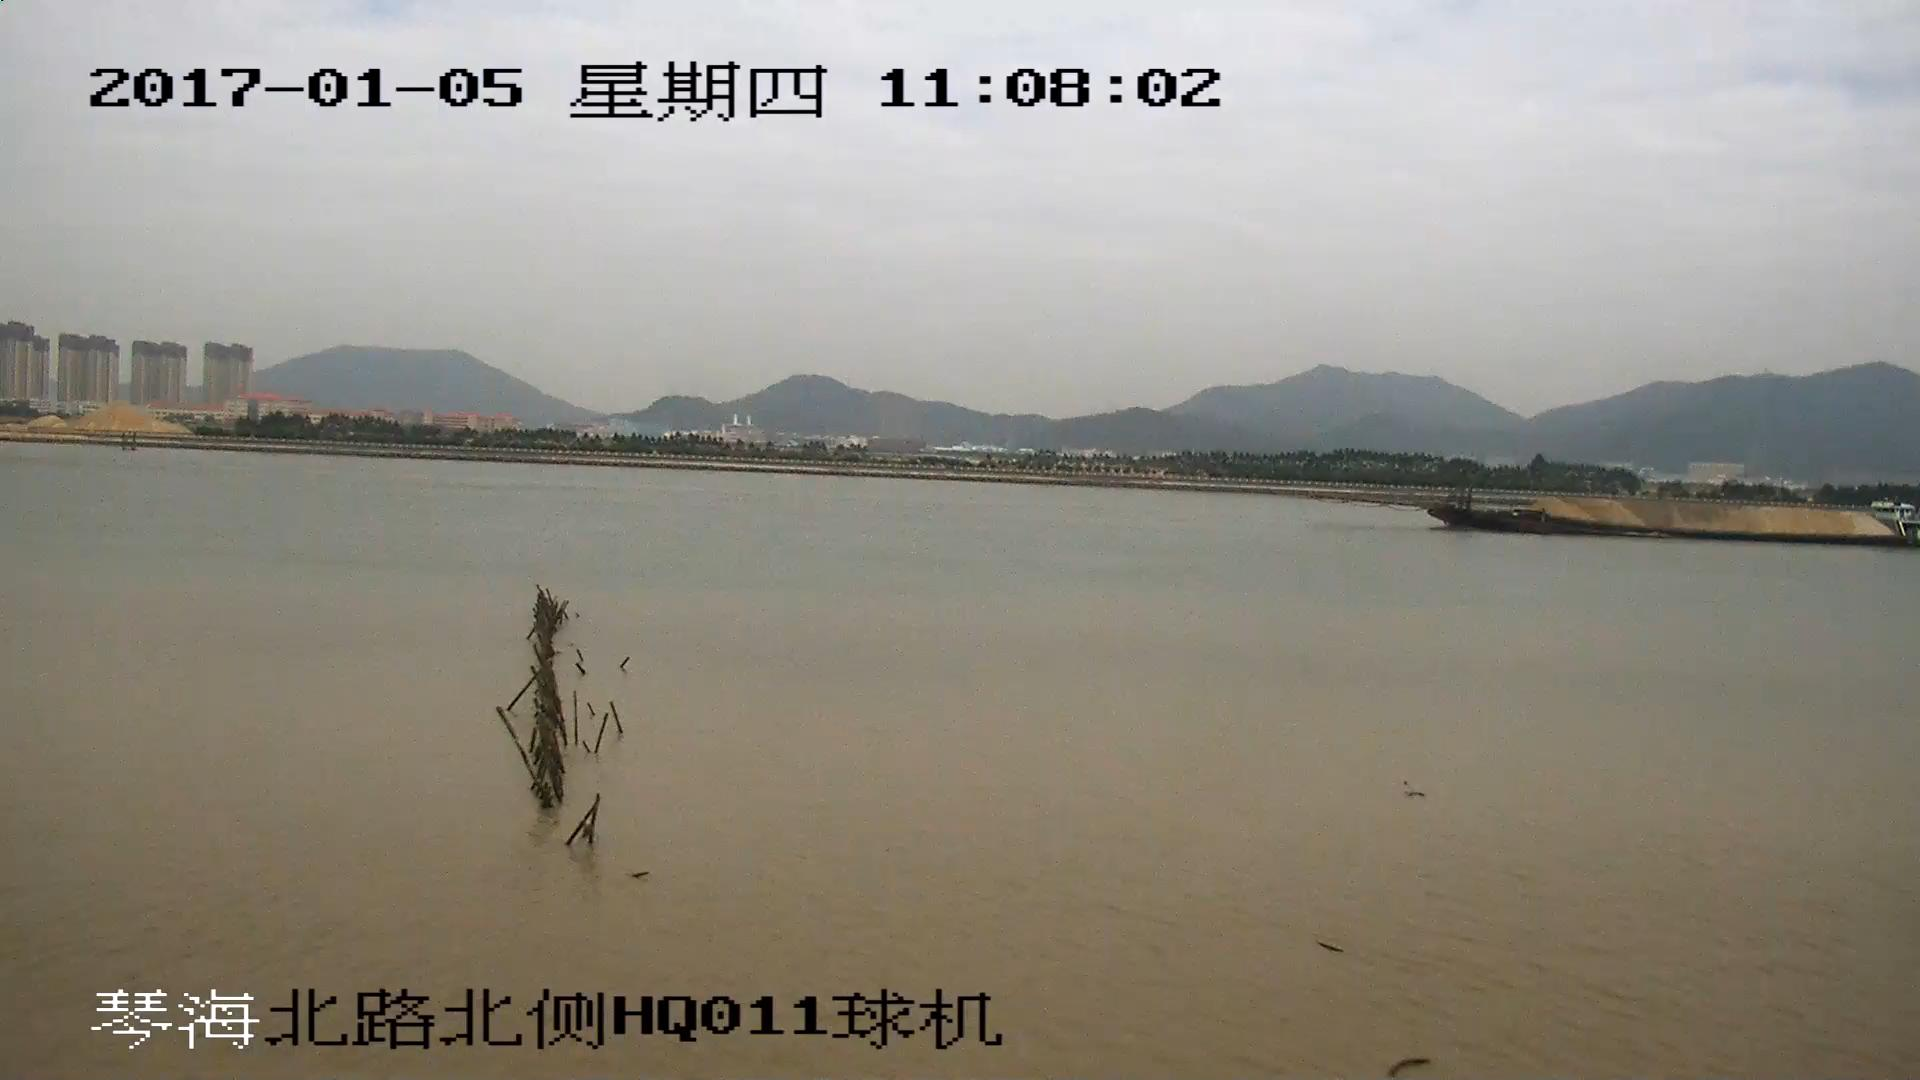ore carrier: (1368, 470, 1920, 542)
